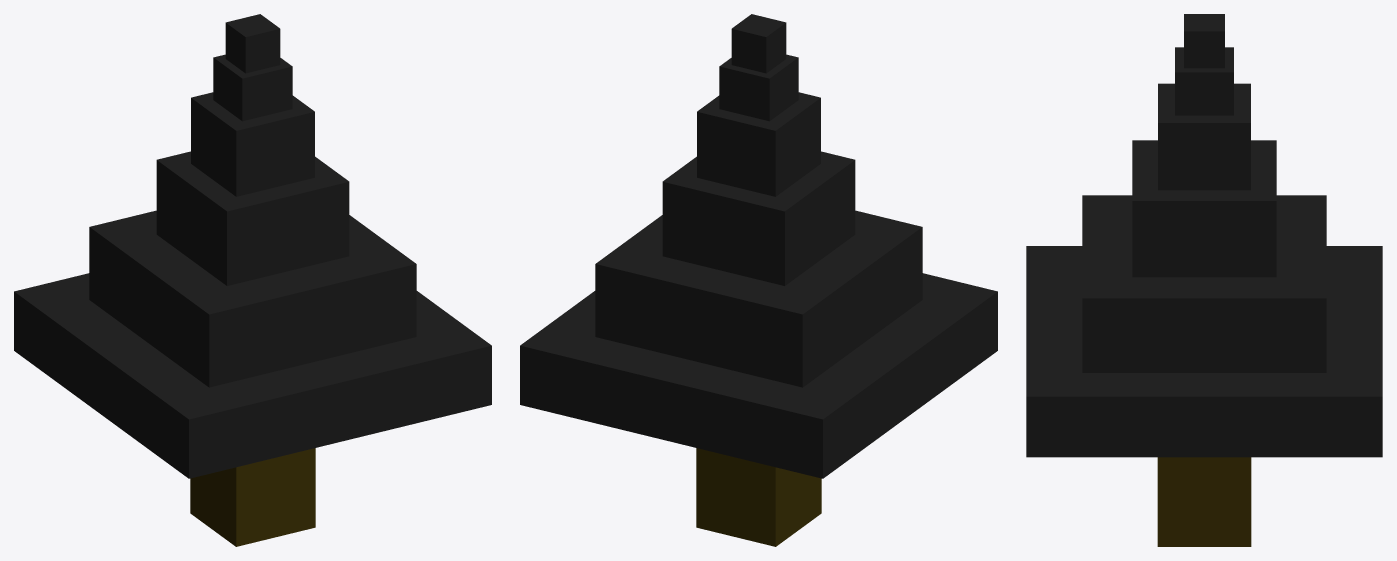
Rendered from blackcubictree.fbx.
3 renders of one model, left to right at view 1: azimuth 30°, elevation 25°; view 2: azimuth 150°, elevation 25°; view 3: azimuth 270°, elevation 25°, orthographic.
Parts seen in each view (by area): view 1: polySurface2; view 2: polySurface2; view 3: polySurface2.
Part boxes in pixels (bbox=[...]): polySurface2: bbox=[14, 14, 491, 546]; polySurface2: bbox=[520, 14, 997, 546]; polySurface2: bbox=[1026, 14, 1382, 546].
Size of the model in its own units: 3.8 by 5.94 by 3.8.
Materials: 1 (1 with a texture image).
